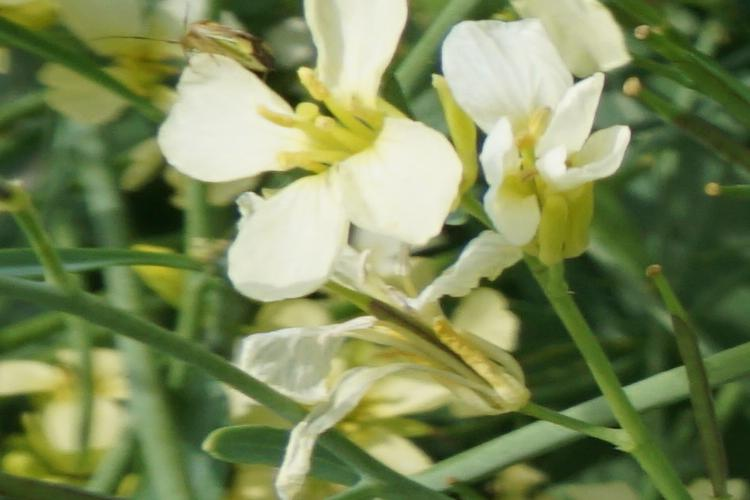pod: (620, 252, 724, 462), (586, 75, 738, 173), (631, 22, 741, 111), (661, 138, 750, 208)
white: (200, 51, 448, 274), (431, 19, 636, 282), (226, 261, 530, 430)
